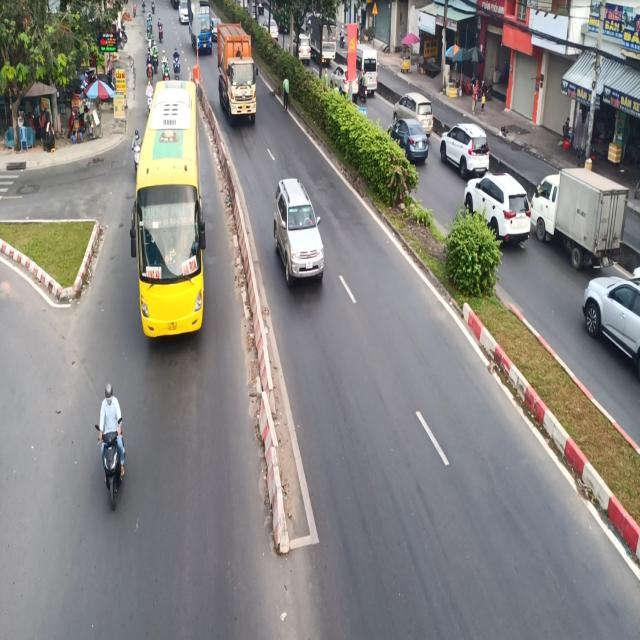bus: (132, 75, 212, 362)
car: (270, 171, 324, 291)
motor: (97, 376, 125, 518)
truck: (214, 23, 261, 128)
